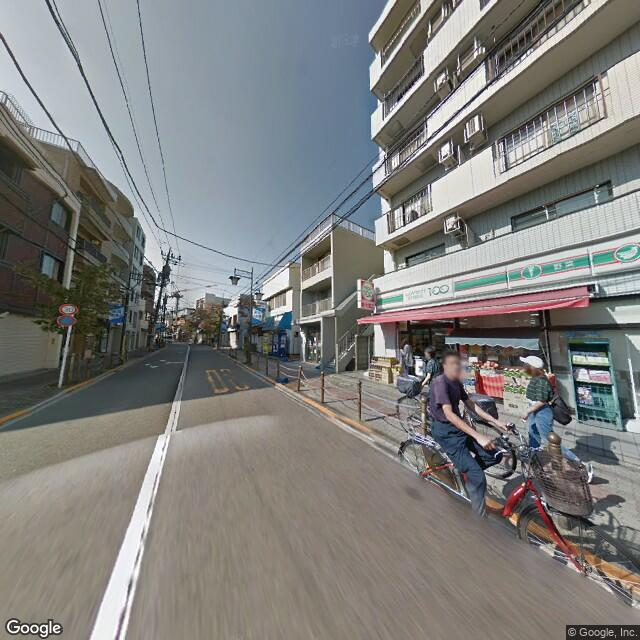lawson: (379, 234, 638, 315), (358, 281, 378, 306)
